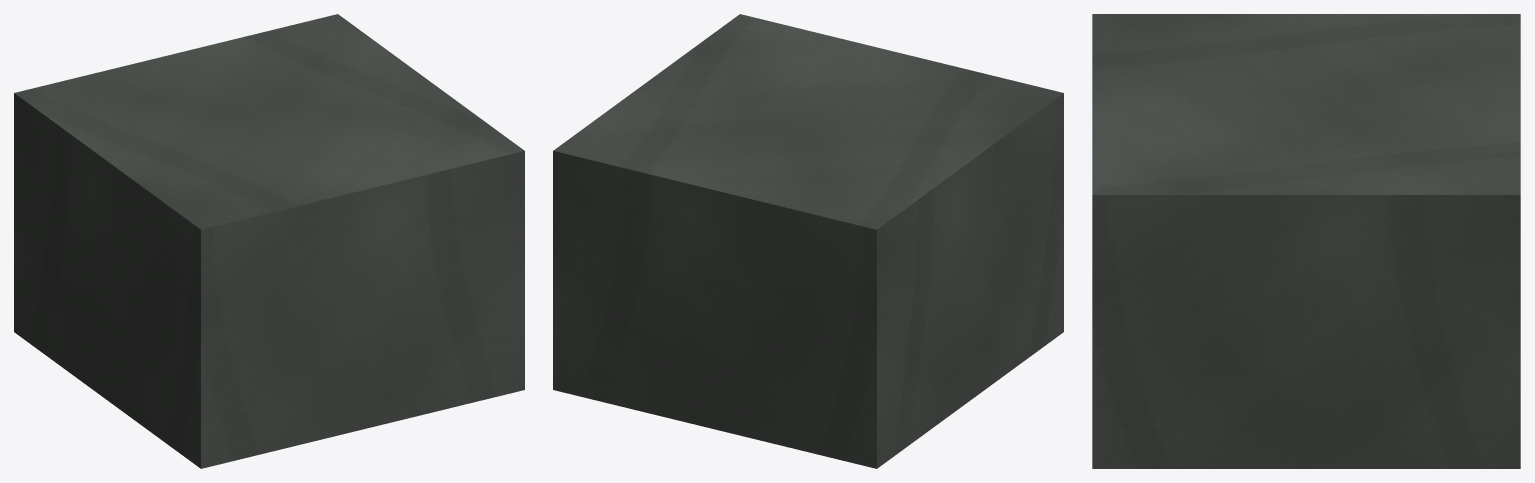
File: Foundation_Corner.glb
3 renders of one model, left to right at view 1: azimuth 30°, elevation 25°; view 2: azimuth 150°, elevation 25°; view 3: azimuth 270°, elevation 25°, orthographic. The views are drawn at different scales.
Visible parts, largest first — view 1: Foundation_Corner; view 2: Foundation_Corner; view 3: Foundation_Corner.
Boxes of the visible parts, x1,y1,x2,y2 form: Foundation_Corner: [14, 14, 524, 468]; Foundation_Corner: [553, 14, 1063, 468]; Foundation_Corner: [1092, 14, 1520, 468].
Bounding box in the file's own units: 0.34 × 0.24 × 0.34.
1 material, 1 textured.
